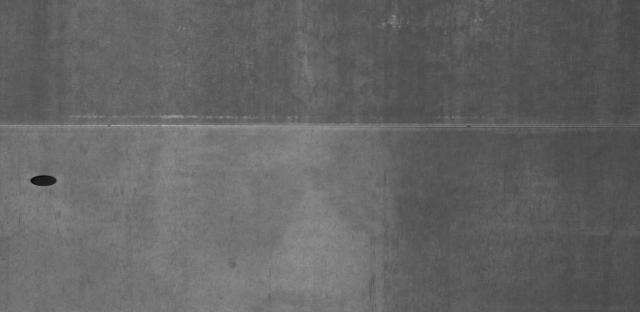punching_hole: (26, 169, 72, 190)
welding_line: (4, 117, 640, 140)
